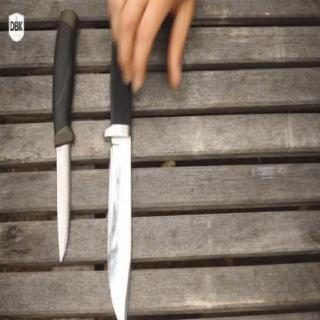knife: (97, 40, 153, 320), (48, 124, 78, 270)
